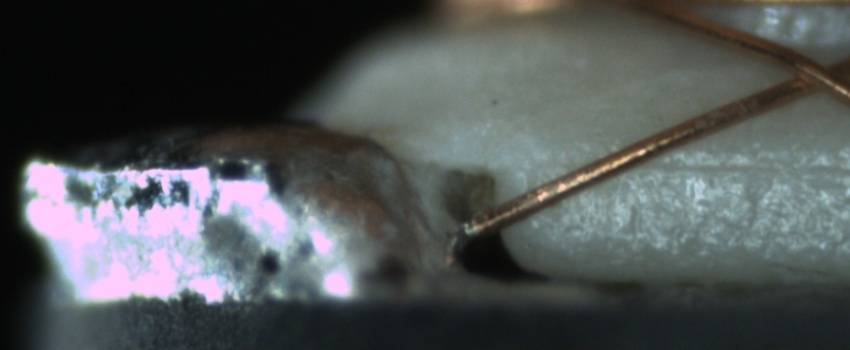CL: (771, 45, 846, 101)
DL: (560, 137, 848, 196)
